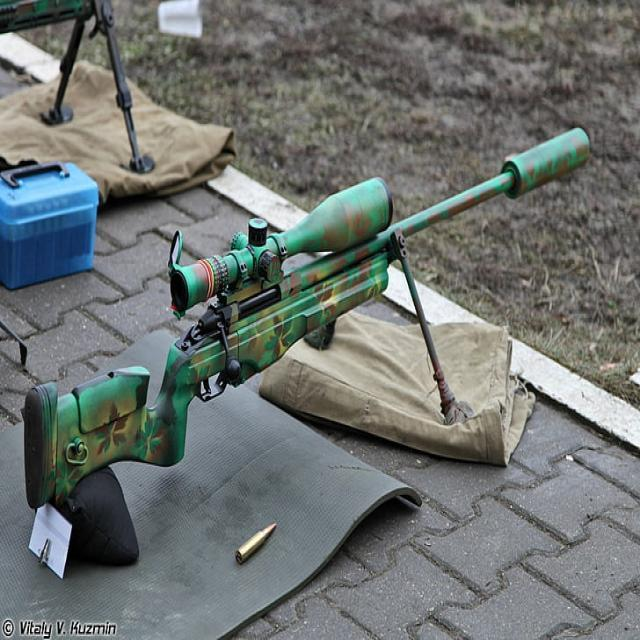rifle: (5, 106, 616, 525)
